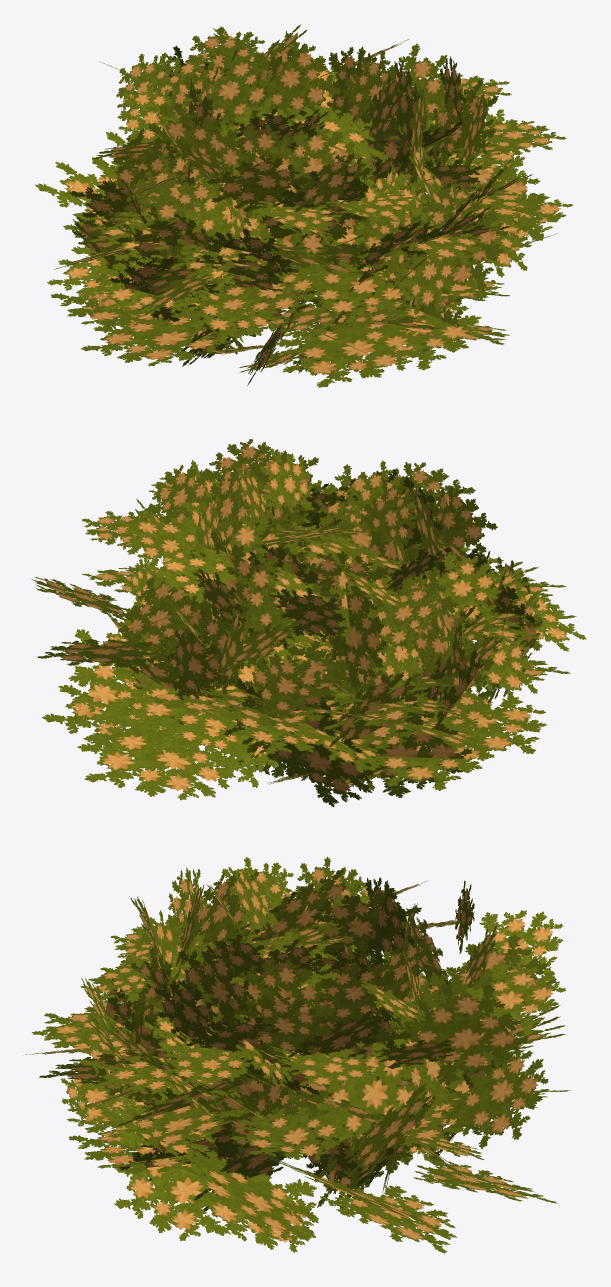
Rendered from YellowBloomyBushLeaves.fbx.
3 renders of one model, top to bottom at view 1: azimuth 30°, elevation 25°; view 2: azimuth 150°, elevation 25°; view 3: azimuth 270°, elevation 25°, orthographic. The views are drawn at different scales.
Visible parts, largest first — view 1: YellowBloomyBushLeaves_LOD0; view 2: YellowBloomyBushLeaves_LOD0; view 3: YellowBloomyBushLeaves_LOD0.
Part boxes in pixels (left/top/right/bottom): YellowBloomyBushLeaves_LOD0: left=35, top=24, right=572, bottom=387; YellowBloomyBushLeaves_LOD0: left=31, top=438, right=586, bottom=806; YellowBloomyBushLeaves_LOD0: left=22, top=856, right=570, bottom=1253.
Size of what is drawn, in the model's own units: 118 by 66.68 by 114.
